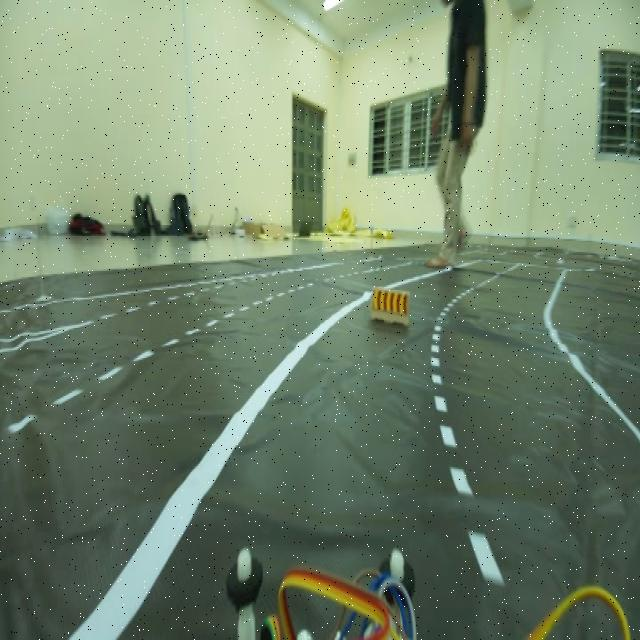roadblock: (365, 277, 415, 333)
